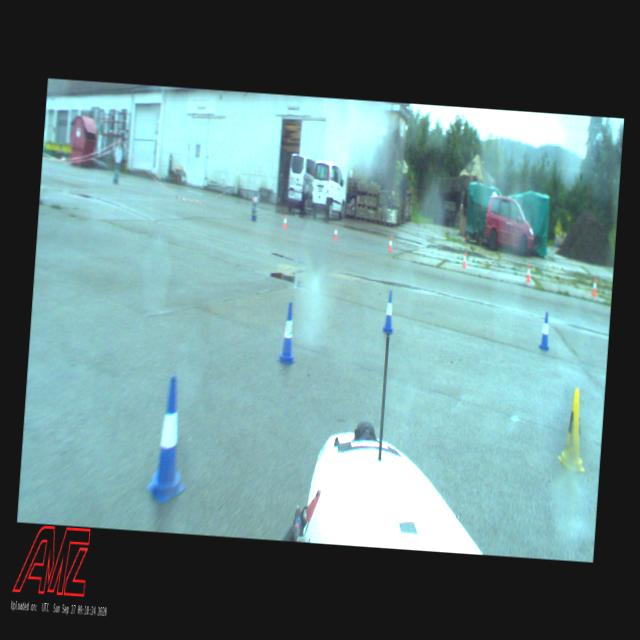blue_cone: (146, 375, 192, 503), (276, 302, 300, 364), (538, 312, 552, 349), (382, 290, 394, 332)
orange_cone: (592, 278, 598, 296), (461, 252, 467, 268), (333, 226, 338, 240), (526, 265, 530, 282), (388, 236, 392, 251), (283, 216, 287, 228)
yellow_cone: (556, 388, 590, 471)
